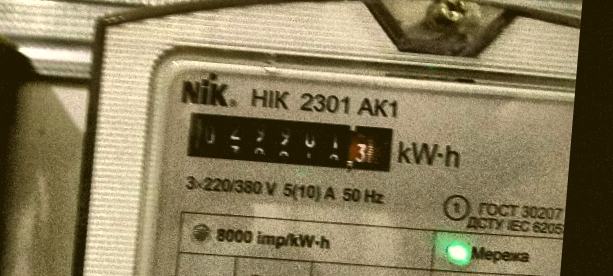0: (302, 123, 318, 149), (201, 122, 219, 144)
1: (327, 126, 342, 150)
2: (226, 121, 244, 141)
3: (353, 140, 368, 162)
9: (277, 123, 293, 146), (252, 121, 266, 144)
screen: (173, 100, 405, 182)
